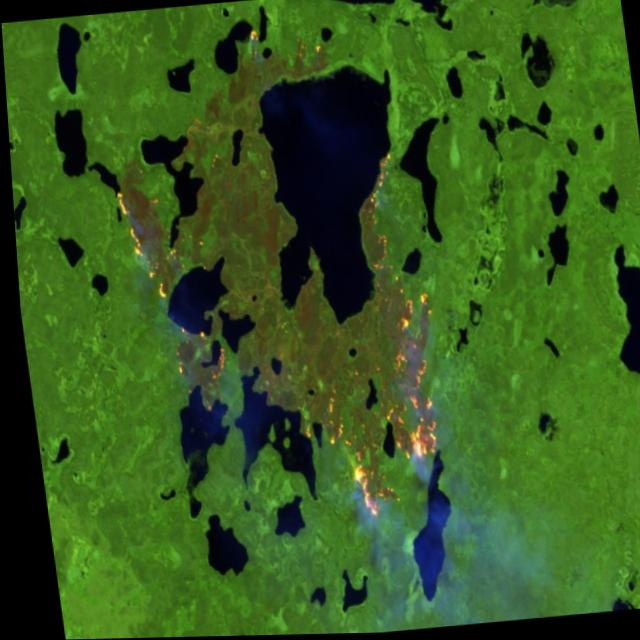fire: (103, 157, 459, 539)
